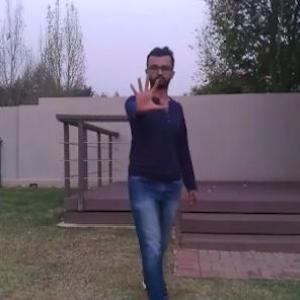follow_hand: (124, 72, 168, 114)
